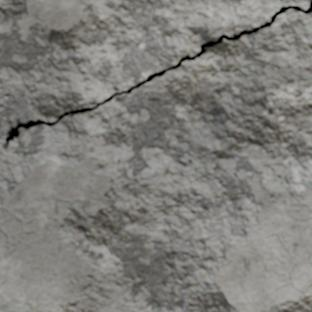brick: (0, 0, 311, 311)
crack: (1, 0, 311, 150)
